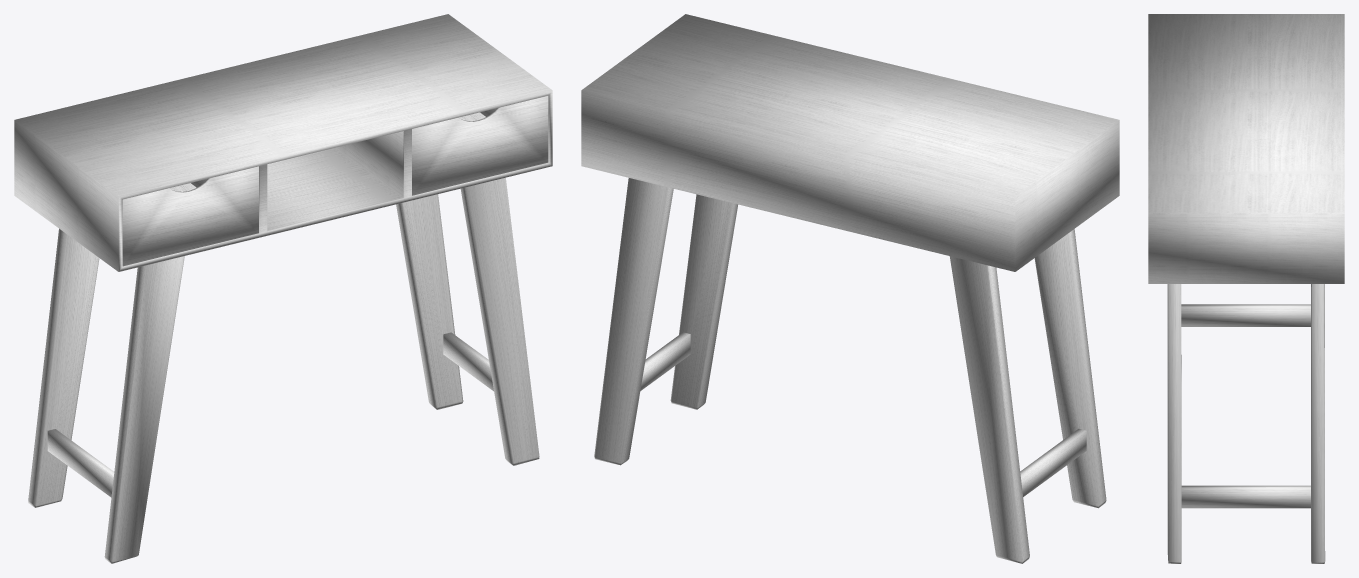
Rendered from desk.glb.
3 views of the same model, side by side, from view 1: azimuth 30°, elevation 25°; view 2: azimuth 150°, elevation 25°; view 3: azimuth 270°, elevation 25° (orthographic). The views are drawn at different scales.
Visible parts, largest first — view 1: Cube.007; view 2: Cube.007; view 3: Cube.007.
Boxes of the visible parts, x1,y1,x2,y2 form: Cube.007: (14, 14, 552, 563); Cube.007: (581, 14, 1119, 563); Cube.007: (1148, 14, 1344, 563).
Size of the model in its own units: 2.4 by 1.99 by 1.
1 material, 1 textured.
